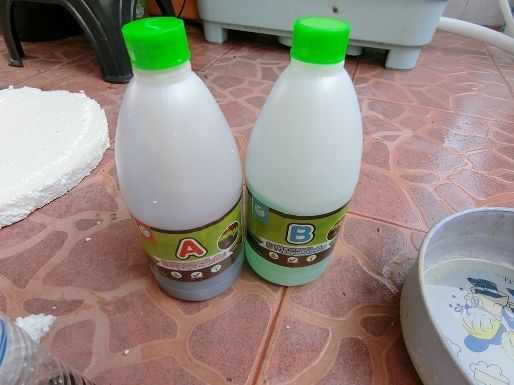Insecticide: (109, 14, 245, 306), (241, 13, 365, 294)
